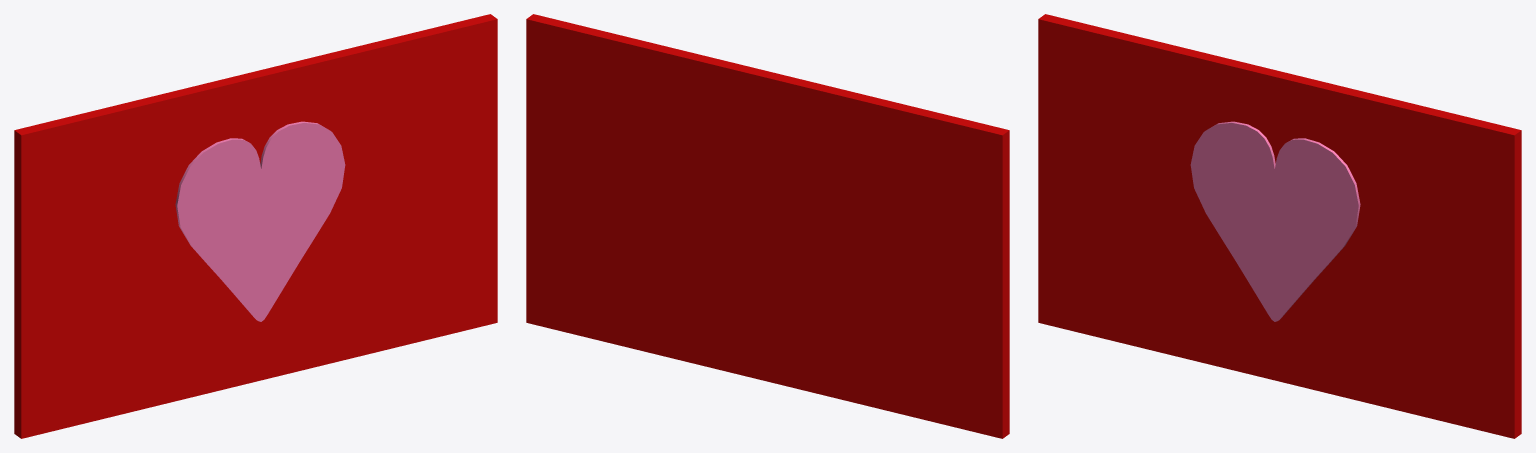
Rendered from 66ee810f-d5e1-4f4f-9053-8683cad67e99.glb.
3 renders of one model, left to right at view 1: azimuth 30°, elevation 25°; view 2: azimuth 150°, elevation 25°; view 3: azimuth 330°, elevation 25°, orthographic.
Parts seen in each view (by area): view 1: ValentinesCardRed; view 2: ValentinesCardRed; view 3: ValentinesCardRed.
Boxes of the visible parts, x1,y1,x2,y2 form: ValentinesCardRed: (14, 14, 497, 438); ValentinesCardRed: (526, 14, 1009, 438); ValentinesCardRed: (1038, 14, 1521, 438).
Size of what is drawn, in the model's own units: 0.26 by 0.1584 by 0.00833.
Materials: 1 (1 with a texture image).
